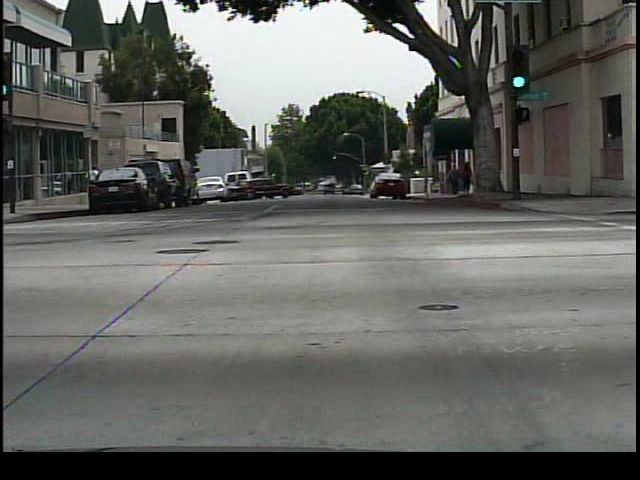person: (83, 158, 109, 205), (444, 165, 463, 199), (470, 156, 471, 196)
